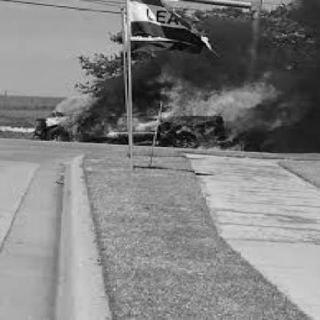Fire: (50, 70, 300, 152)
